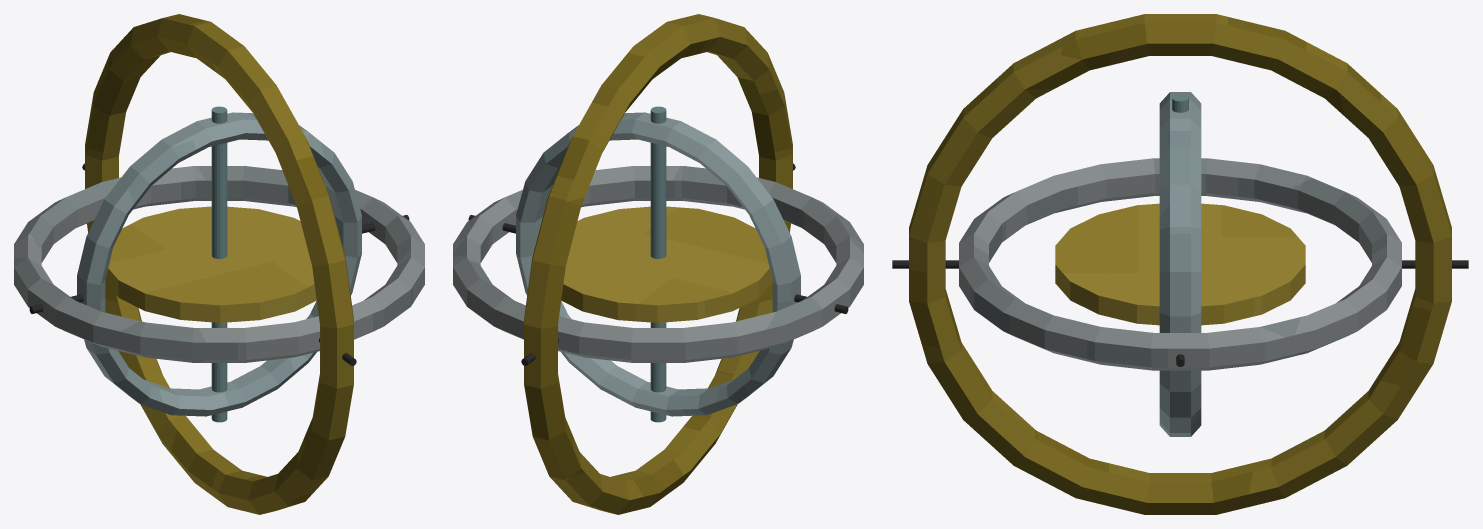
The model's file is gyro.fbx.
3 views of the same model, side by side, from view 1: azimuth 30°, elevation 25°; view 2: azimuth 150°, elevation 25°; view 3: azimuth 270°, elevation 25° (orthographic). The views are drawn at different scales.
Parts seen in each view (by area): view 1: outerRing, middleRing, disk, innerRing, diskConnection; view 2: outerRing, middleRing, disk, innerRing, diskConnection; view 3: outerRing, middleRing, disk, innerRing.
Boxes of the visible parts, box(x1,y1,x2,y2) form: outerRing: box(85, 14, 353, 514); middleRing: box(14, 166, 424, 362); disk: box(105, 206, 316, 322); innerRing: box(77, 112, 361, 416); diskConnection: box(211, 106, 227, 422); outerRing: box(524, 14, 792, 514); middleRing: box(453, 166, 863, 362); disk: box(561, 206, 772, 322); innerRing: box(516, 112, 800, 416); diskConnection: box(650, 106, 666, 422); outerRing: box(909, 14, 1451, 514); middleRing: box(959, 158, 1401, 370); disk: box(1055, 203, 1305, 325); innerRing: box(1159, 92, 1201, 436).
Bounding box in the file's own units: 35 × 40.62 × 43.12.
1 material, 1 textured.
